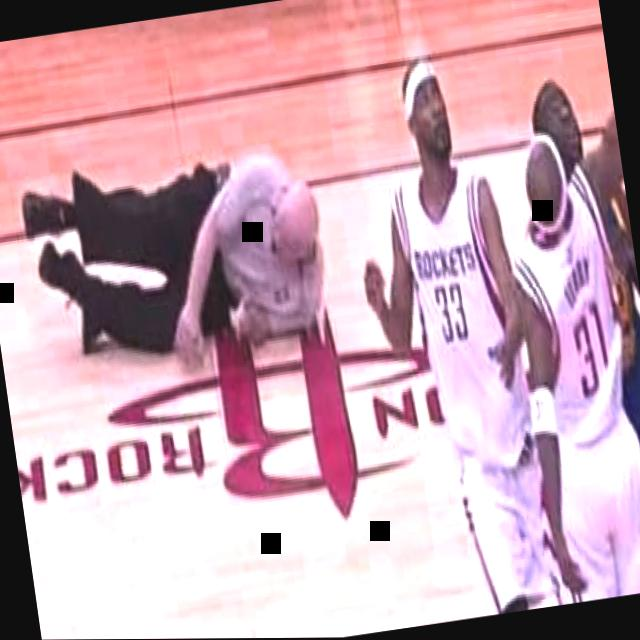Fall-Detected: (0, 85, 328, 396)
